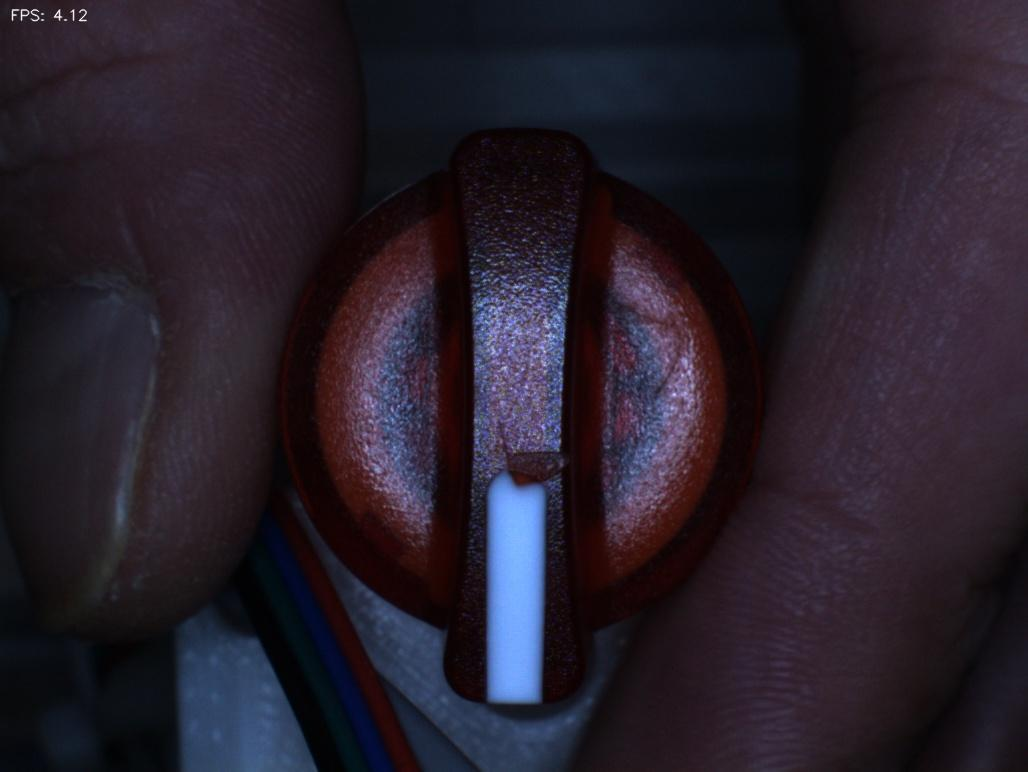Choc: (485, 403, 585, 506)
